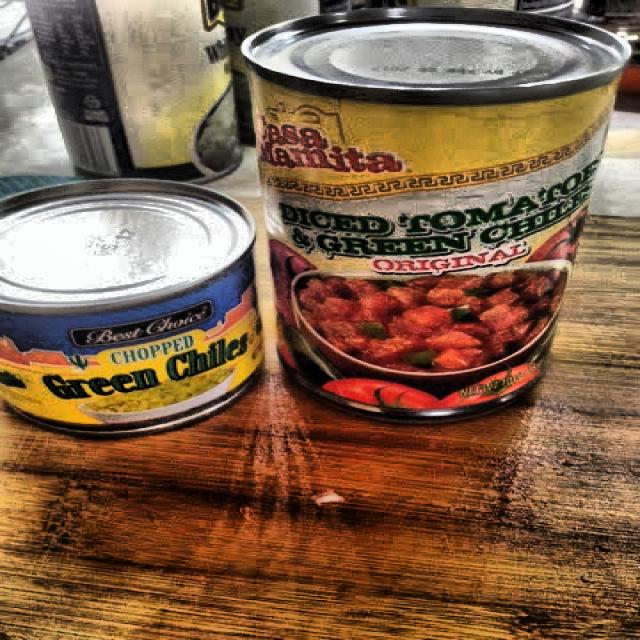Cans: (238, 0, 632, 426), (0, 162, 268, 440)
